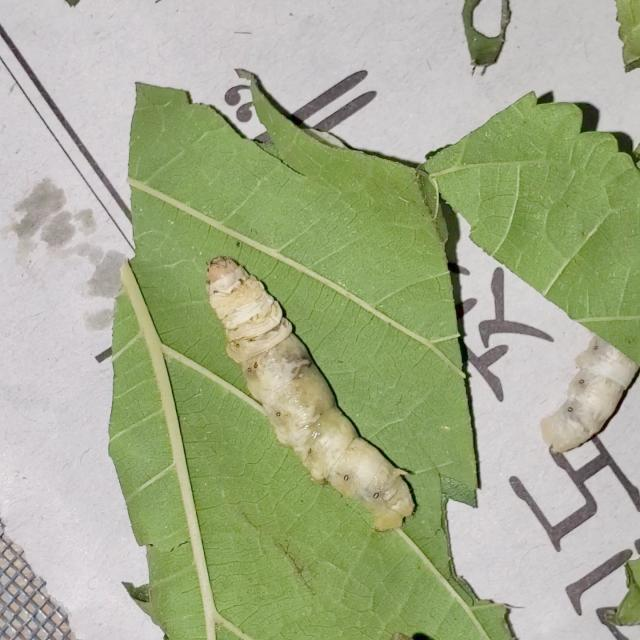Grasserie: (192, 241, 438, 560)
